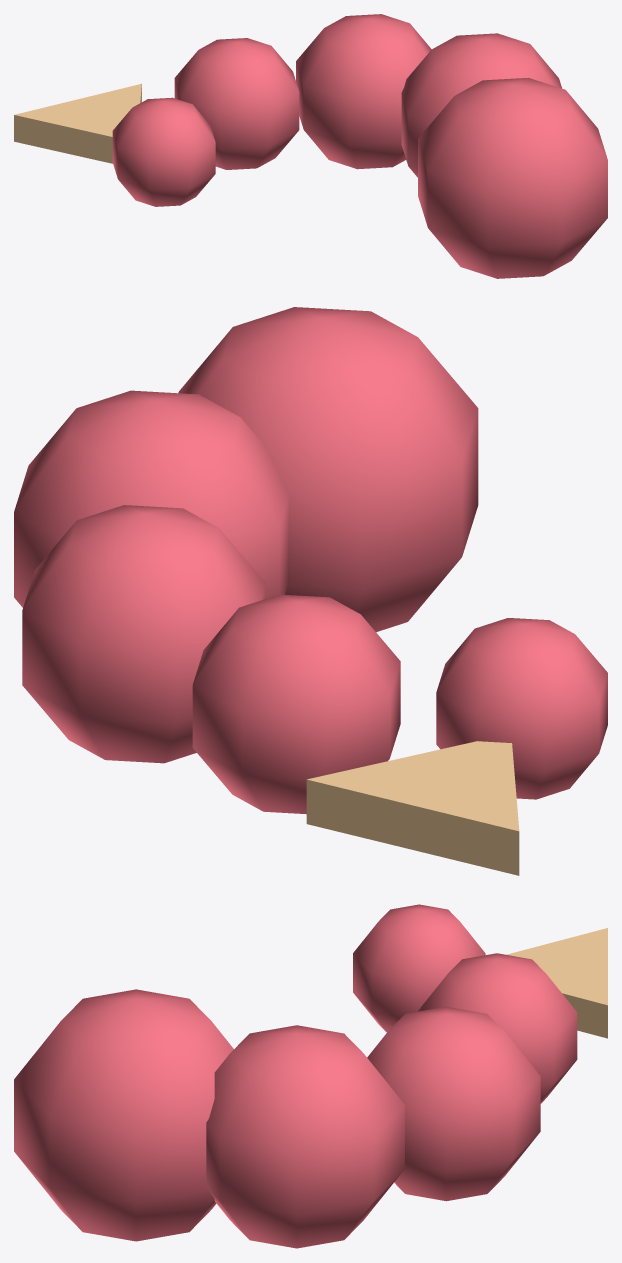
Rendered from food_shrimp.glb.
The picture shows the model from 3 angles, top to bottom: view 1: azimuth 30°, elevation 25°; view 2: azimuth 150°, elevation 25°; view 3: azimuth 270°, elevation 25°; orthographic projection. The views are drawn at different scales.
Parts seen in each view (by area): view 1: food_shrimp, food_shrimp_s2, food_shrimp_s3, food_shrimp_s4, food_shrimp_s1, food_shrimp_tail; view 2: food_shrimp, food_shrimp_s2, food_shrimp_s3, food_shrimp_s1, food_shrimp_s4, food_shrimp_tail; view 3: food_shrimp, food_shrimp_s1, food_shrimp_s2, food_shrimp_s3, food_shrimp_s4, food_shrimp_tail.
Part boxes in pixels (<box>): food_shrimp: <box>418,77,607,278</box>; food_shrimp_s2: <box>296,14,431,169</box>; food_shrimp_s3: <box>174,38,299,169</box>; food_shrimp_s4: <box>112,97,215,206</box>; food_shrimp_s1: <box>401,33,561,177</box>; food_shrimp_tail: <box>14,83,141,163</box>; food_shrimp: <box>178,307,478,632</box>; food_shrimp_s2: <box>22,505,265,763</box>; food_shrimp_s3: <box>192,594,400,814</box>; food_shrimp_s1: <box>14,390,289,607</box>; food_shrimp_s4: <box>436,618,607,799</box>; food_shrimp_tail: <box>306,741,519,875</box>; food_shrimp: <box>14,989,233,1241</box>; food_shrimp_s1: <box>206,1025,404,1248</box>; food_shrimp_s2: <box>367,1006,540,1201</box>; food_shrimp_s3: <box>417,953,577,1103</box>; food_shrimp_s4: <box>353,904,485,1032</box>; food_shrimp_tail: <box>506,928,607,1038</box>.
Bounding box in the file's own units: 0.1643 × 0.07 × 0.1619.
